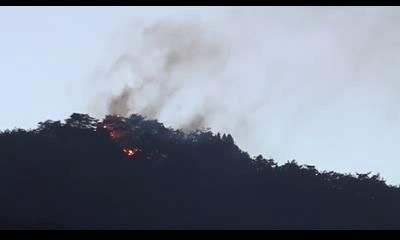smoke: (121, 22, 243, 124)
